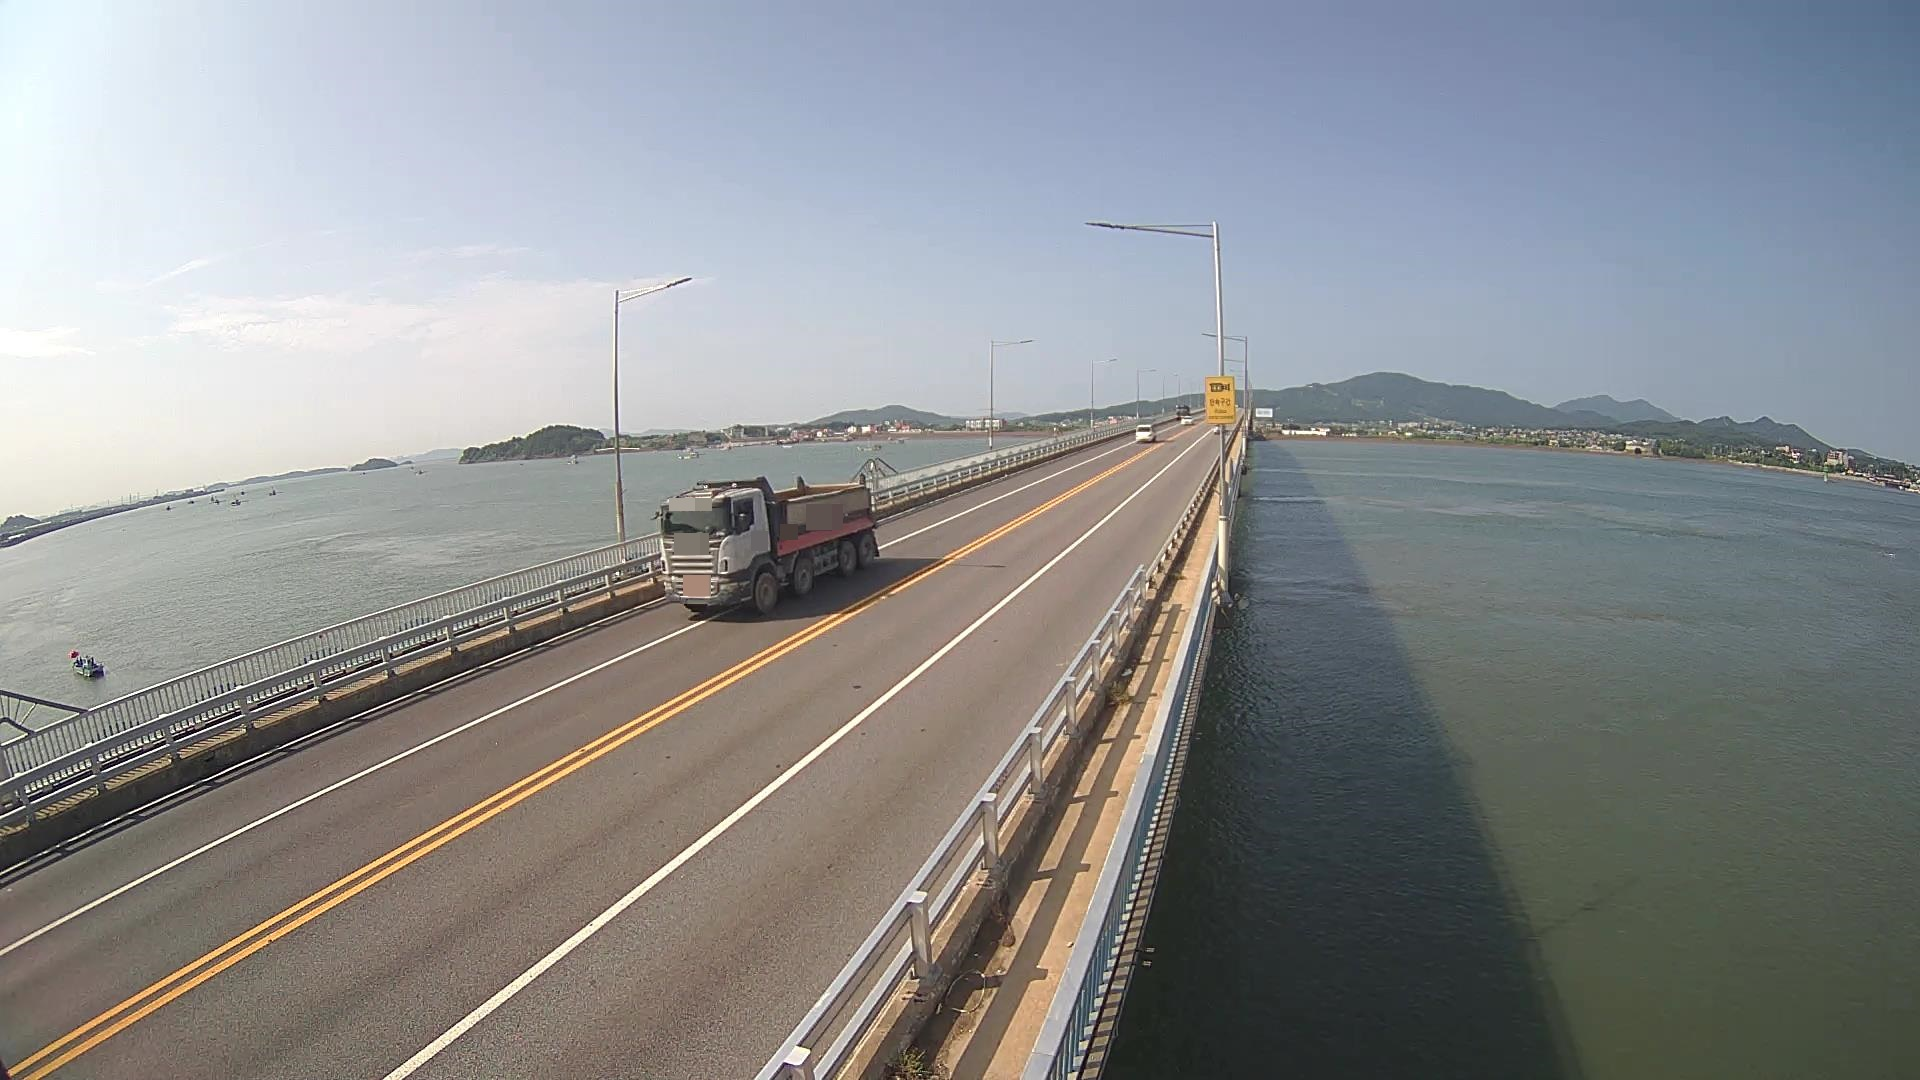정상차량: (650, 472, 880, 615)
